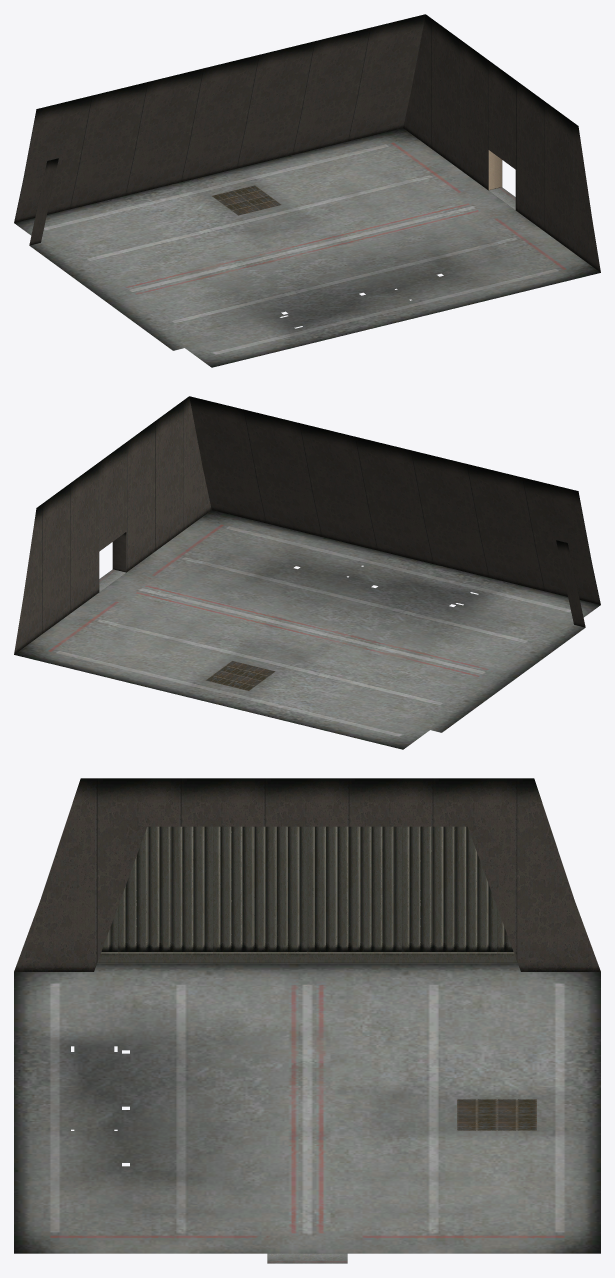
File: HangerIn.glb
The picture shows the model from 3 angles, top to bottom: view 1: azimuth 30°, elevation 25°; view 2: azimuth 150°, elevation 25°; view 3: azimuth 270°, elevation 25°; orthographic projection. The views are drawn at different scales.
Visible parts, largest first — view 1: HANGERIN; view 2: HANGERIN; view 3: HANGERIN.
Boxes of the visible parts, left/top/right/bottom form: HANGERIN: left=14, top=14, right=600, bottom=367; HANGERIN: left=14, top=396, right=600, bottom=749; HANGERIN: left=14, top=778, right=600, bottom=1263.
Bounding box in the file's own units: 26.62 × 8 × 22.
5 materials, 5 textured.
